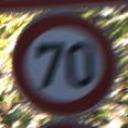speed_limit_70: (12, 12, 118, 118)
